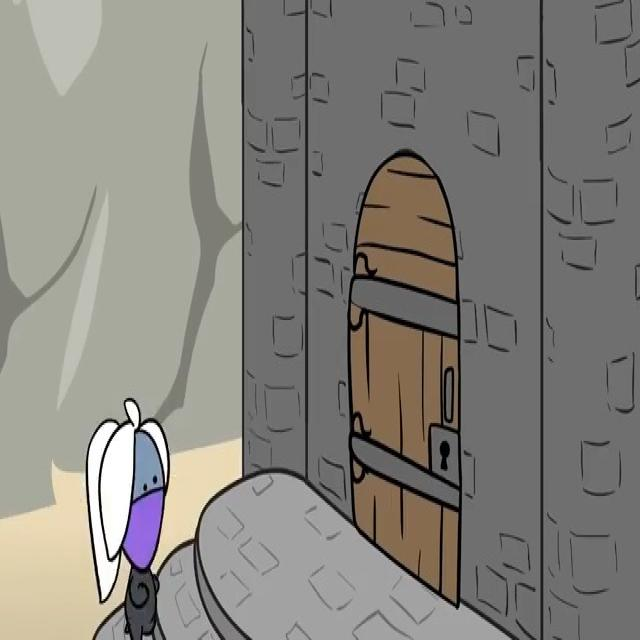miss Demeanor: (85, 398, 171, 640)
